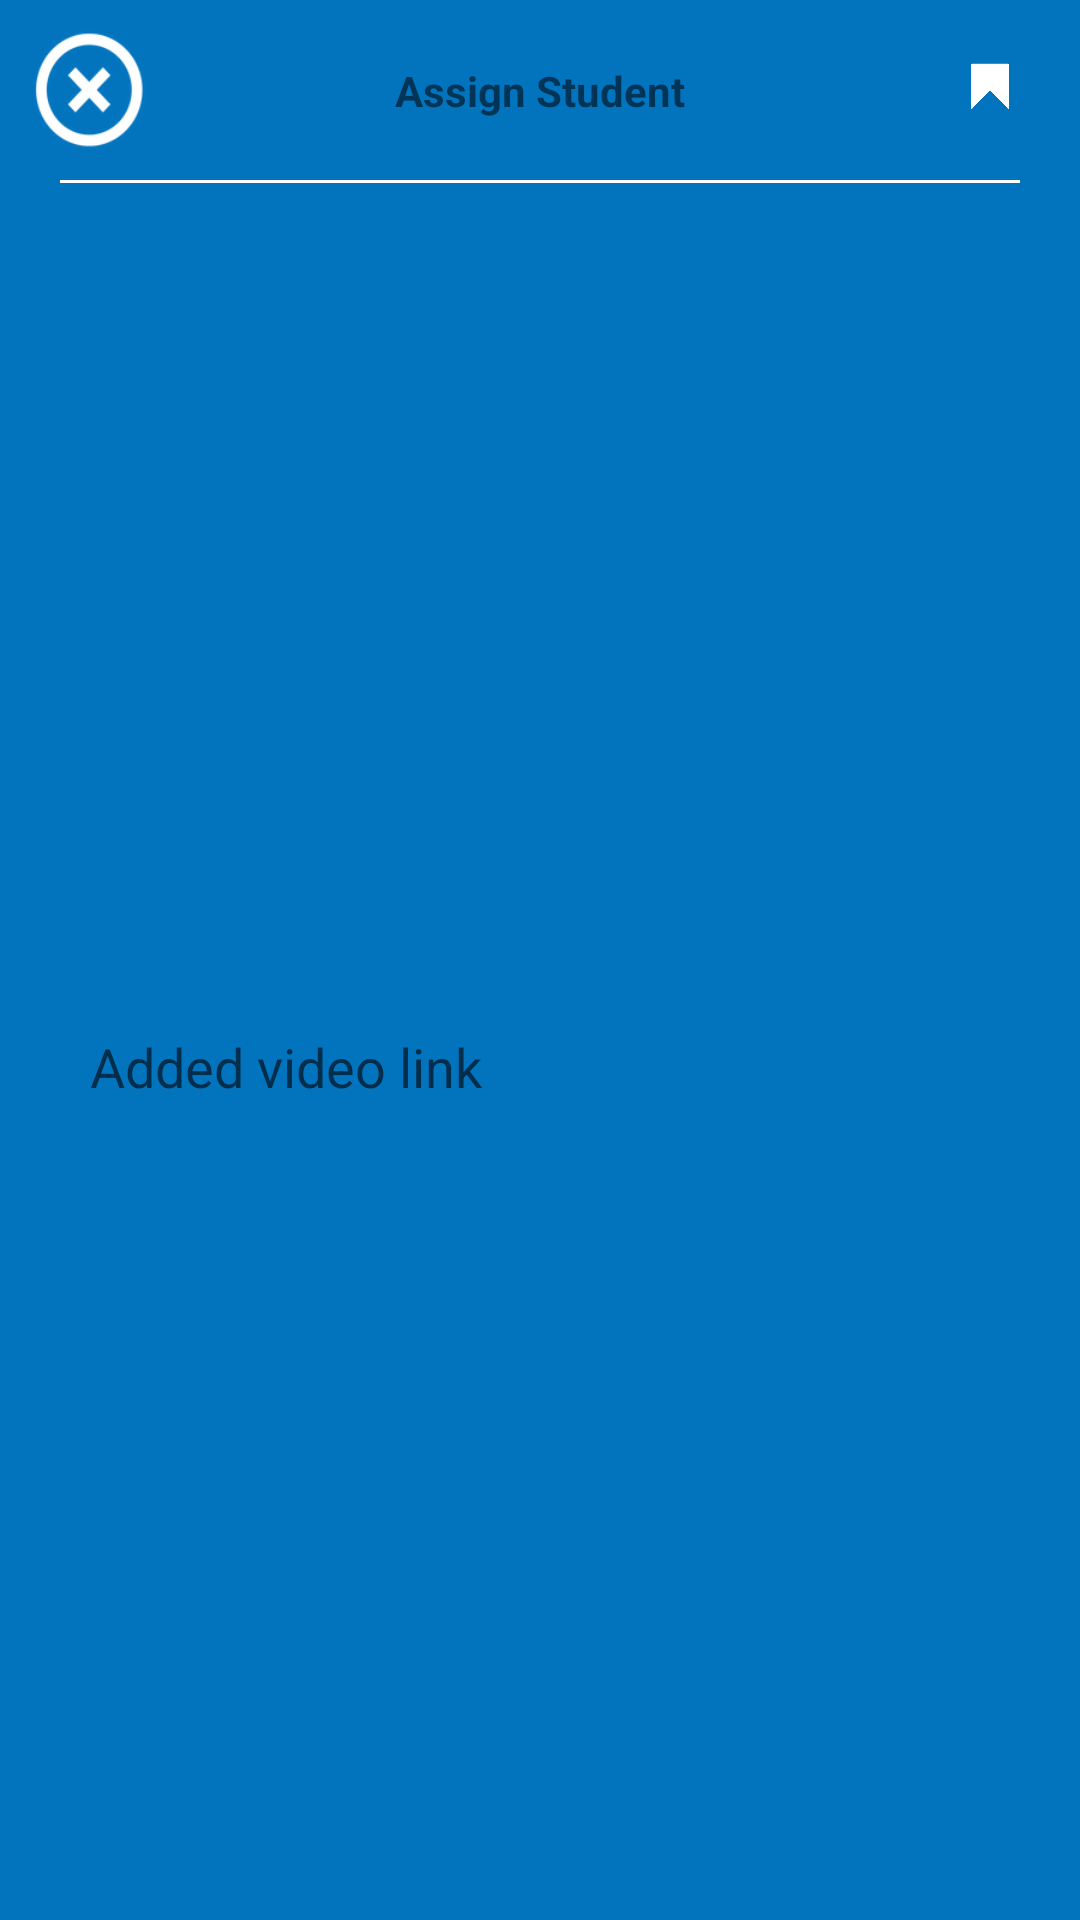

Screen size 1080px x 1920px. Icon name, then its center in pixels as (x=x, y=y):
cross: (x=89, y=90)
save: (x=990, y=86)
